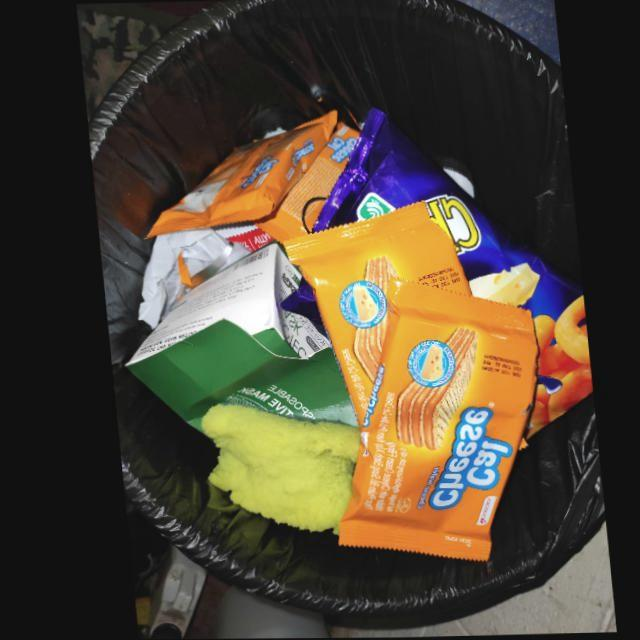cardboard: (118, 241, 351, 431)
food_wrapper: (308, 106, 586, 441), (330, 278, 534, 561), (279, 200, 467, 431), (141, 109, 337, 238), (249, 122, 358, 244)
